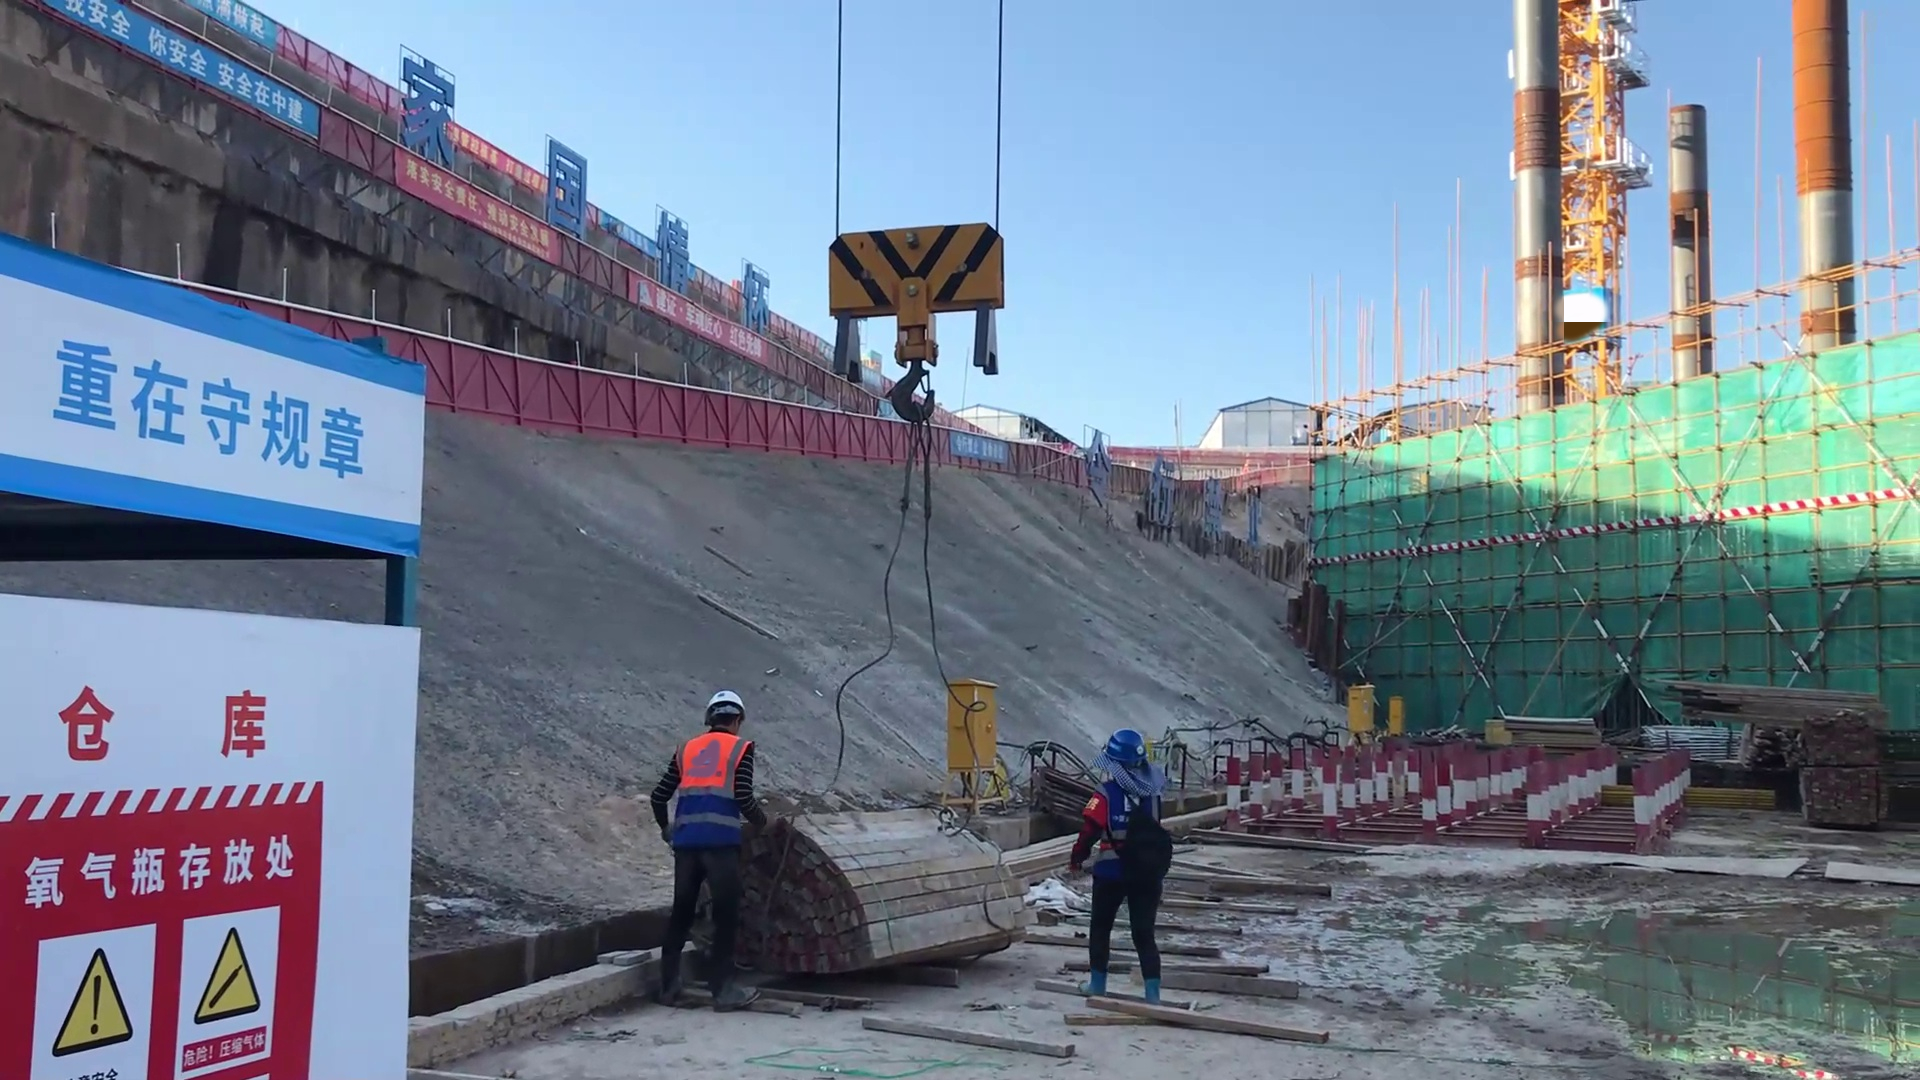ebox: (937, 655, 1028, 775), (1344, 683, 1382, 741), (1382, 695, 1403, 737)
fence: (426, 334, 791, 450), (792, 411, 896, 468)
helmet: (1103, 723, 1144, 769), (702, 691, 753, 727)
hook: (823, 205, 1004, 386)
person: (649, 678, 776, 1009), (1063, 728, 1192, 1014)
slogan: (14, 742, 296, 1080), (29, 304, 384, 509), (67, 1, 336, 163), (391, 148, 563, 271)
vest: (663, 729, 749, 802)
wood: (782, 800, 1034, 985), (1675, 672, 1912, 756)
